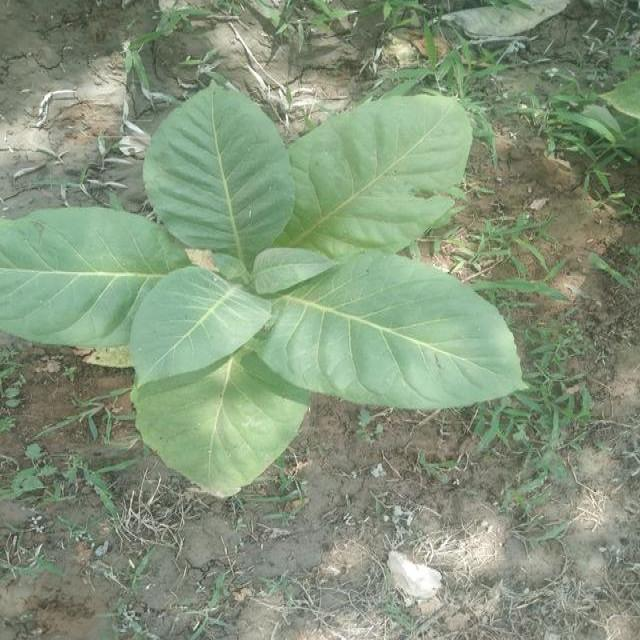crop: (4, 79, 528, 506)
